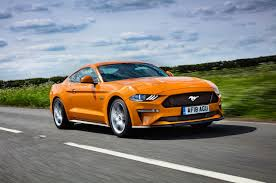car: (42, 56, 238, 141)
